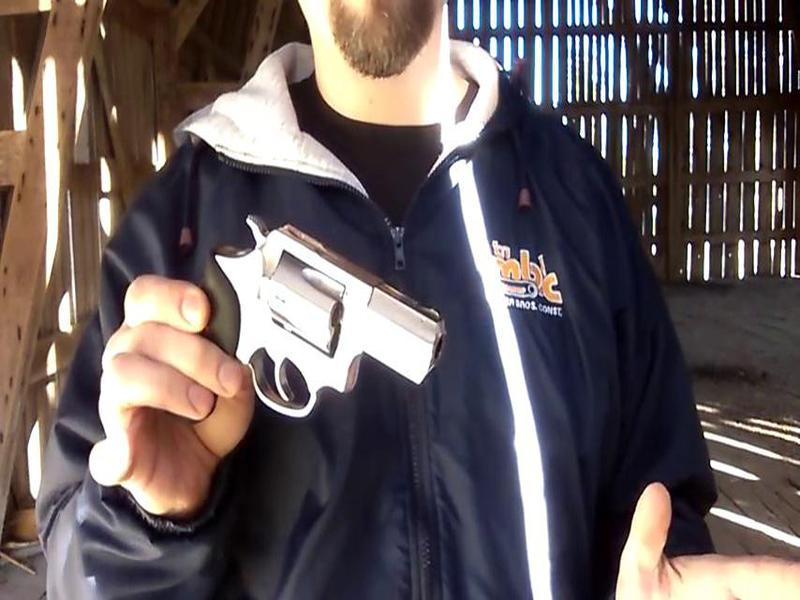Revolver: (189, 204, 456, 440)
